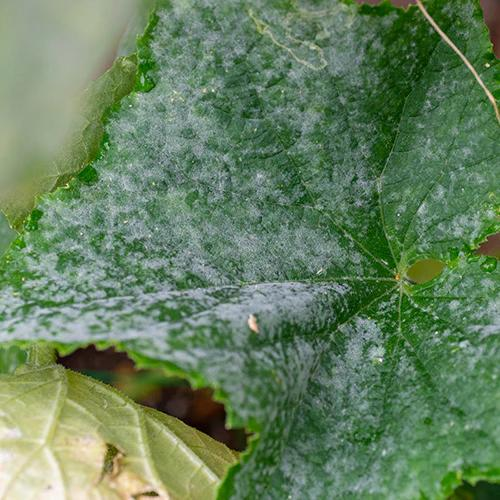powdery_mildew: (20, 15, 500, 462)
